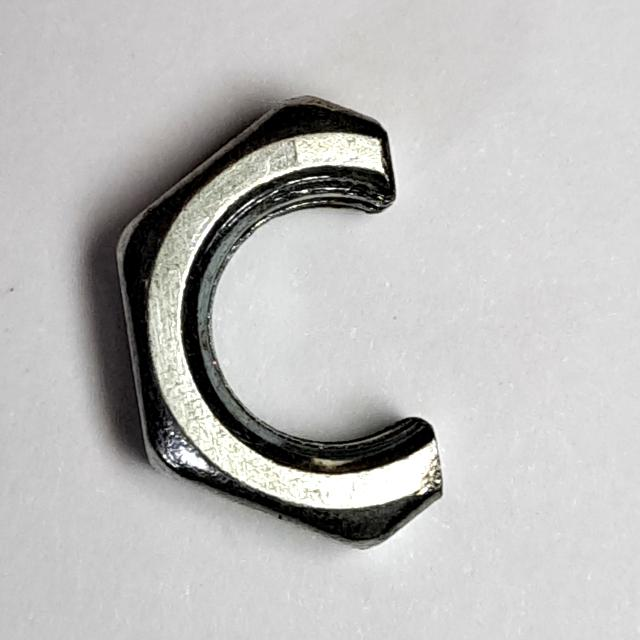Fracture: (109, 81, 460, 567)
